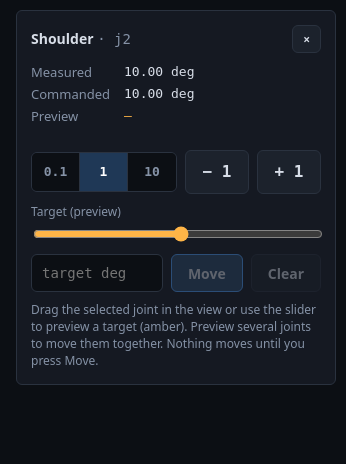
Test: JointPanel › previews with the slider and sends only on Move
Expected: the button "Move" is disabled, [171,254,243,292]
Set the slider named "Preview target for j2" to "45" at coordinates (239, 234), box [33,226,323,242]
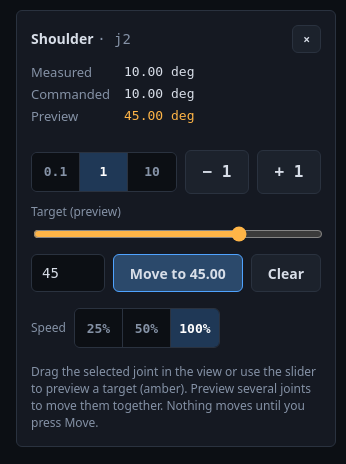
Expected: the text "45.00 deg" is shown, [124,108,194,123]
Click the button "Move to 45.00".
click(178, 273)  # box [113,254,243,292]
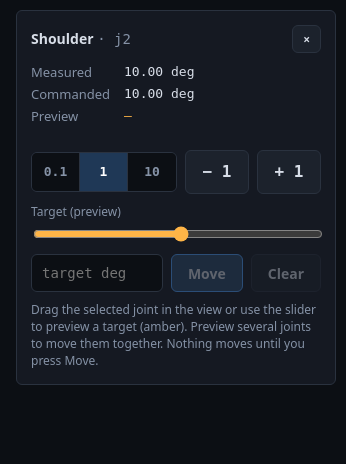
Expected: the button "Move" is disabled, [171,254,243,292]
